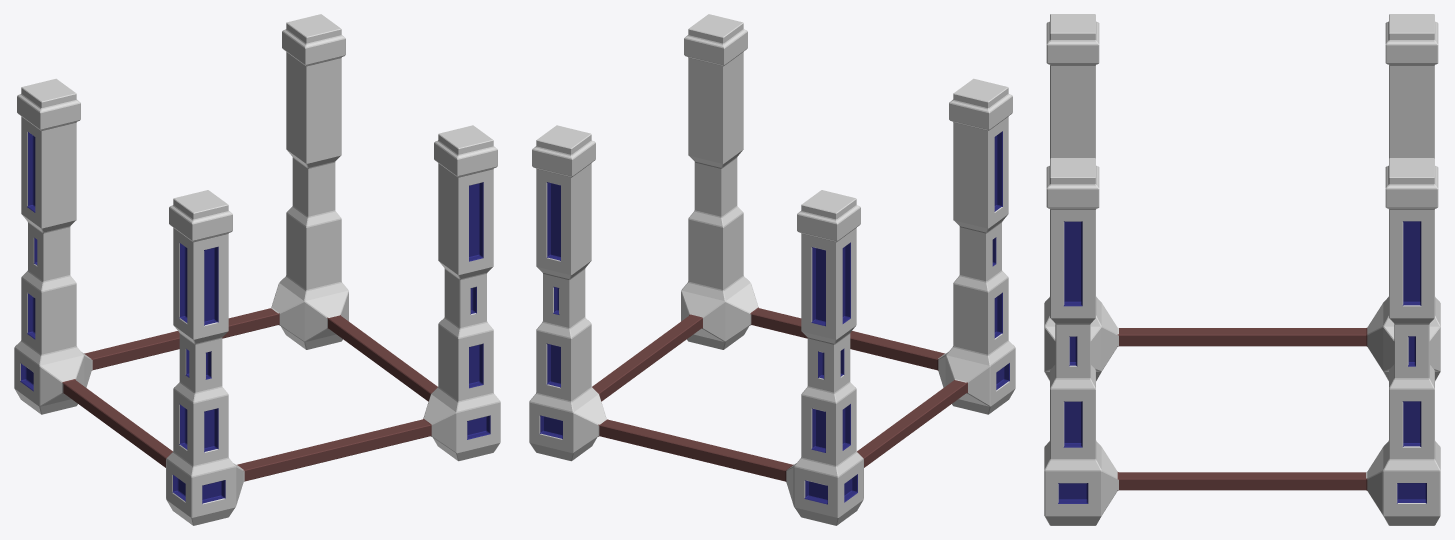
The model's file is pillarsOnly.fbx.
The picture shows the model from 3 angles, left to right: view 1: azimuth 30°, elevation 25°; view 2: azimuth 150°, elevation 25°; view 3: azimuth 270°, elevation 25°; orthographic projection. The views are drawn at different scales.
Visible parts, largest first — view 1: Cube.005; view 2: Cube.005; view 3: Cube.005.
Boxes of the visible parts, <box> form: Cube.005: <box>14,14,500,525</box>; Cube.005: <box>529,14,1015,525</box>; Cube.005: <box>1044,14,1440,525</box>.
Bounding box in the file's own units: 207 × 200 × 206.
